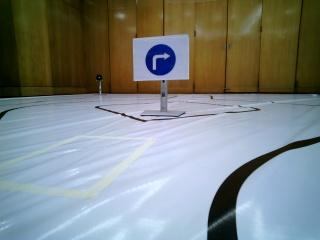right: (136, 40, 186, 79)
